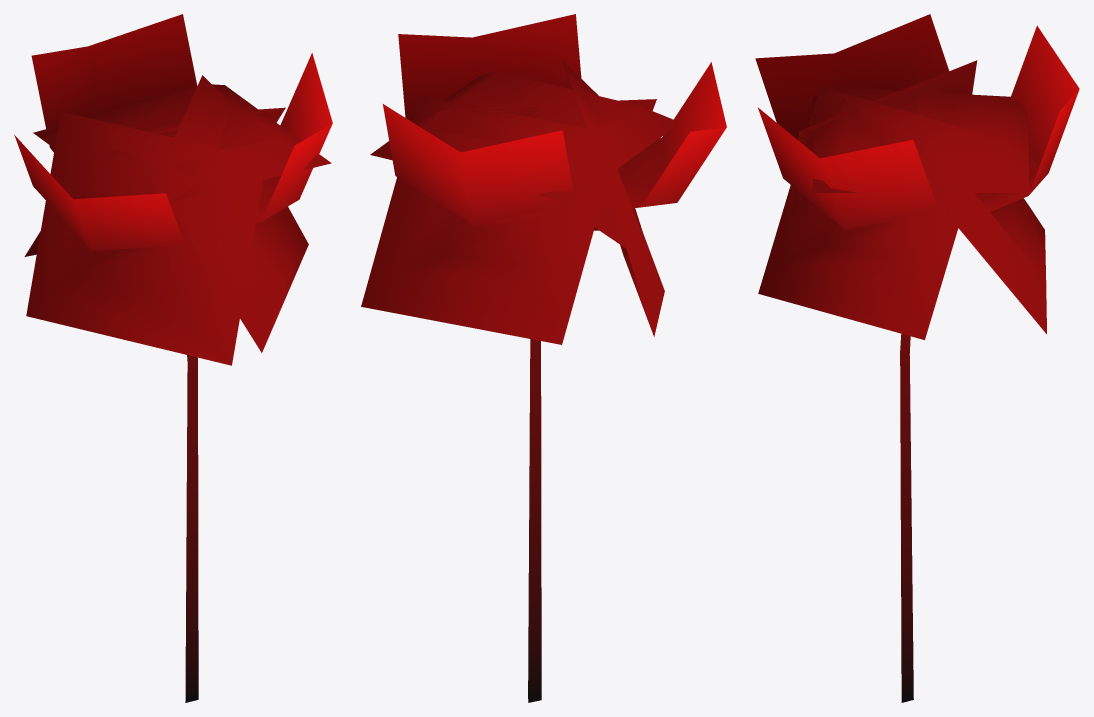
The model's file is SM_Spider_Lily.fbx.
3 views of the same model, side by side, from view 1: azimuth 30°, elevation 25°; view 2: azimuth 150°, elevation 25°; view 3: azimuth 270°, elevation 25° (orthographic). The views are drawn at different scales.
Parts seen in each view (by area): view 1: Spider Lily; view 2: Spider Lily; view 3: Spider Lily.
Boxes of the visible parts, left/top/right/bottom form: Spider Lily: left=14, top=14, right=332, bottom=702; Spider Lily: left=361, top=14, right=726, bottom=702; Spider Lily: left=755, top=14, right=1079, bottom=702.
Size of the model in its own units: 0.2333 by 0.4729 by 0.2214.
